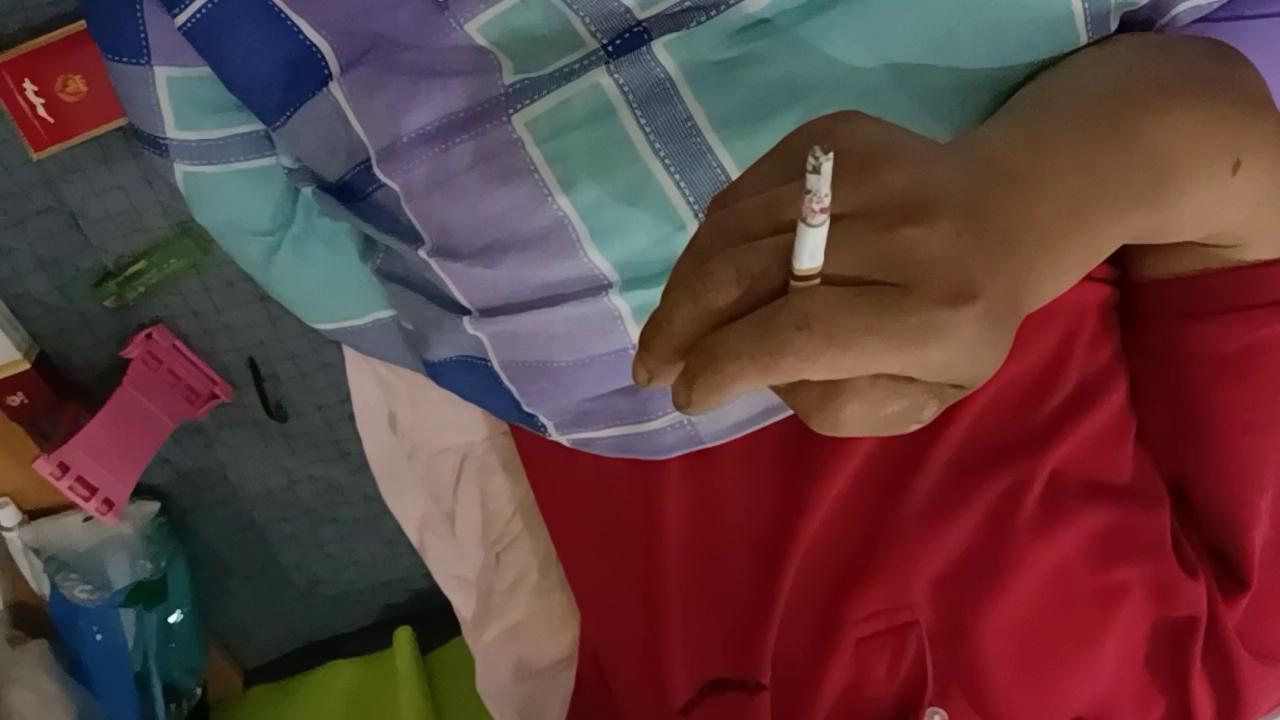smoke: (782, 143, 837, 333)
